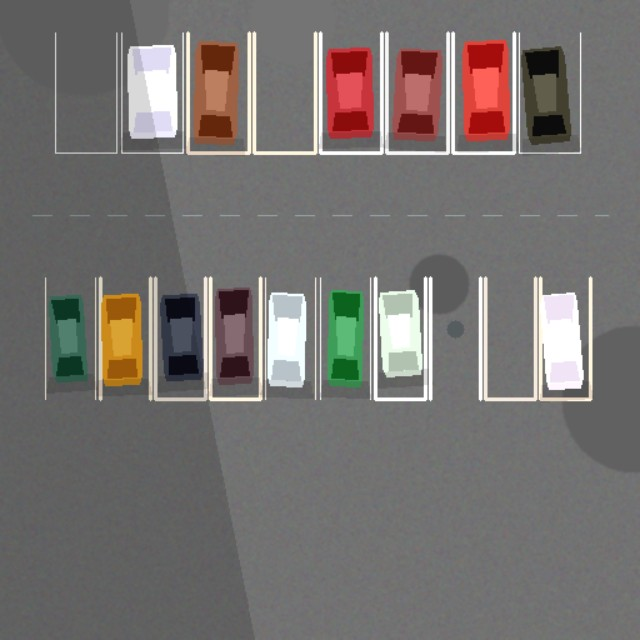space-empty: (55, 32, 116, 152), (254, 32, 315, 152), (430, 277, 480, 399), (485, 277, 535, 399)
space-occupied: (121, 32, 183, 152), (187, 32, 249, 152), (320, 32, 381, 152), (386, 32, 447, 152), (453, 32, 514, 152), (519, 32, 580, 152), (45, 277, 95, 399), (100, 277, 150, 399), (155, 277, 205, 399), (210, 277, 260, 399), (265, 277, 315, 399), (320, 277, 370, 399), (375, 277, 425, 399), (540, 277, 590, 399)
